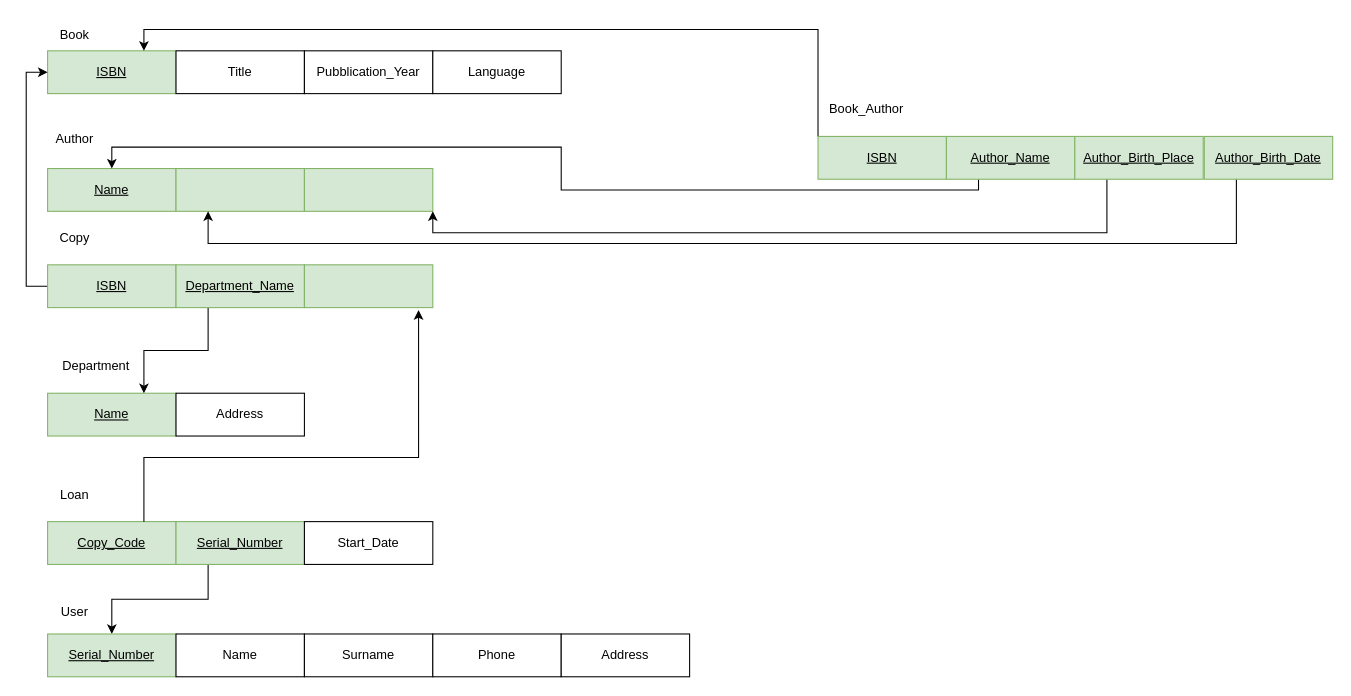
Some shapes in this 1351 by 696 pixel diagram are drawn without their labels. The box of each missing label's shape, as (x1, y1, x2, y2) in pixels:
Birth_Date: (175, 167, 304, 211)
Birth_Place: (303, 167, 433, 211)
Code: (303, 264, 433, 308)
